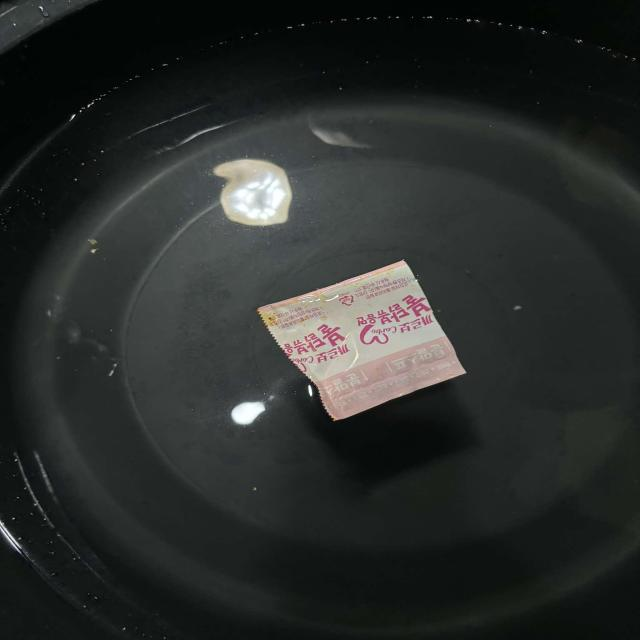Plastic Wrapper: (236, 255, 501, 426)
